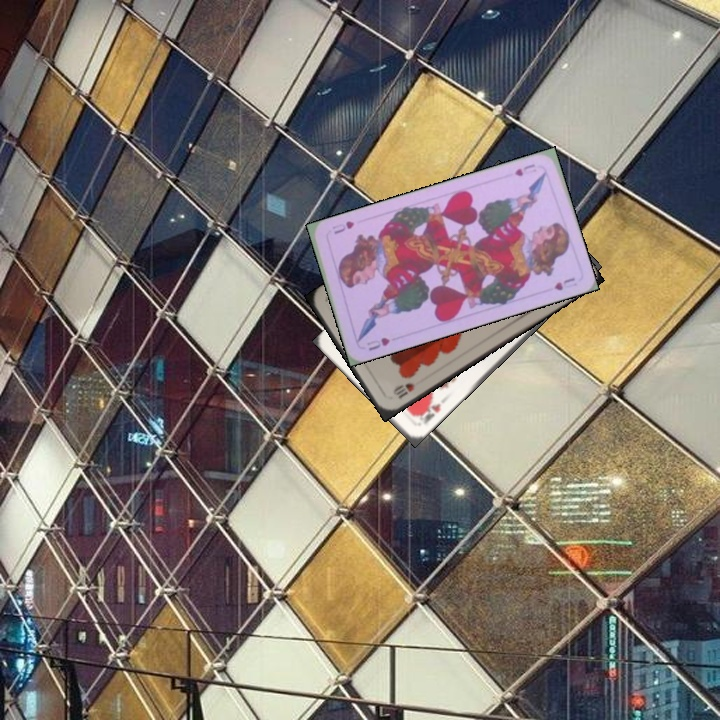H10: (389, 379, 417, 401)
HK: (413, 397, 443, 427)
HU: (363, 333, 392, 353), (510, 160, 539, 179)
